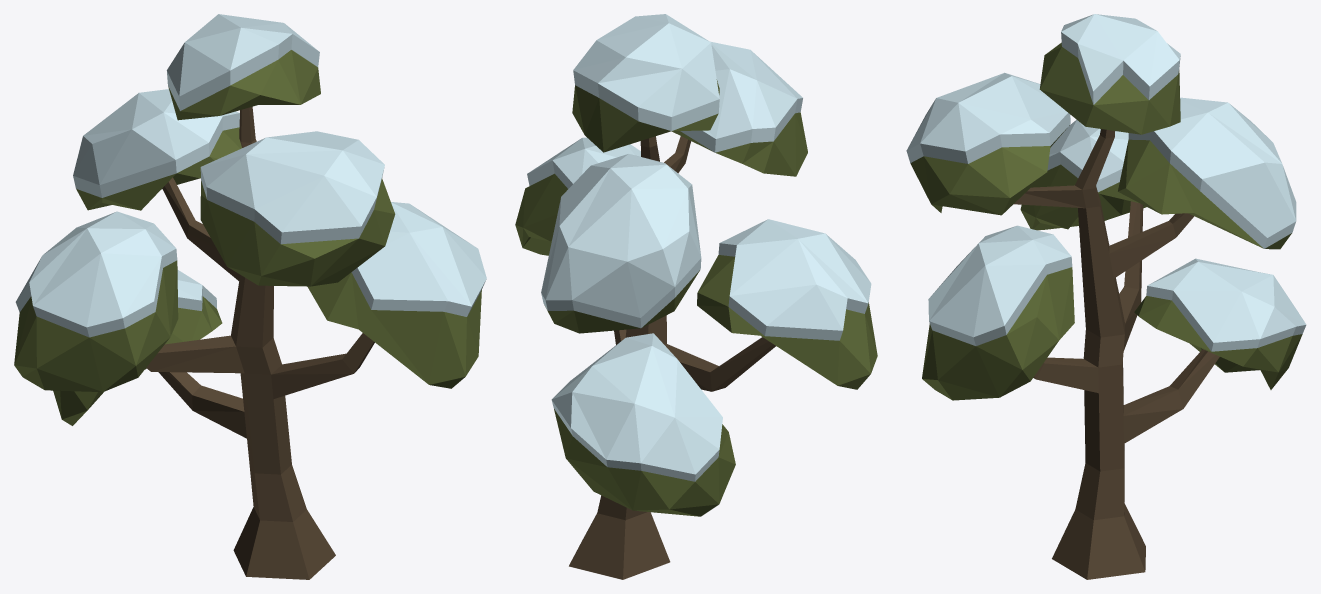
The model's file is SM_Env_Tree_015_Snow.gltf.
3 views of the same model, side by side, from view 1: azimuth 30°, elevation 25°; view 2: azimuth 150°, elevation 25°; view 3: azimuth 270°, elevation 25° (orthographic). The views are drawn at different scales.
Parts seen in each view (by area): view 1: SM_Env_Tree_015_Snow; view 2: SM_Env_Tree_015_Snow; view 3: SM_Env_Tree_015_Snow.
Boxes of the visible parts, box(x1,y1,x2,y2) form: SM_Env_Tree_015_Snow: box(14, 14, 486, 579); SM_Env_Tree_015_Snow: box(515, 14, 877, 579); SM_Env_Tree_015_Snow: box(906, 14, 1306, 579).
Size of the model in its own units: 3.6 by 4.62 by 3.2.
Materials: 1 (1 with a texture image).
